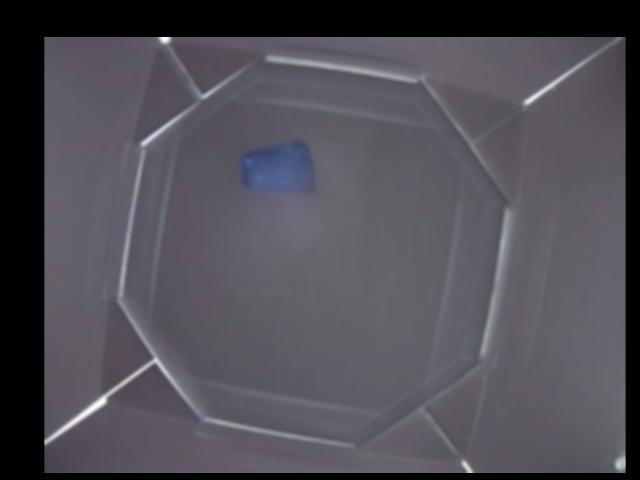Mooli: (238, 138, 315, 191)
